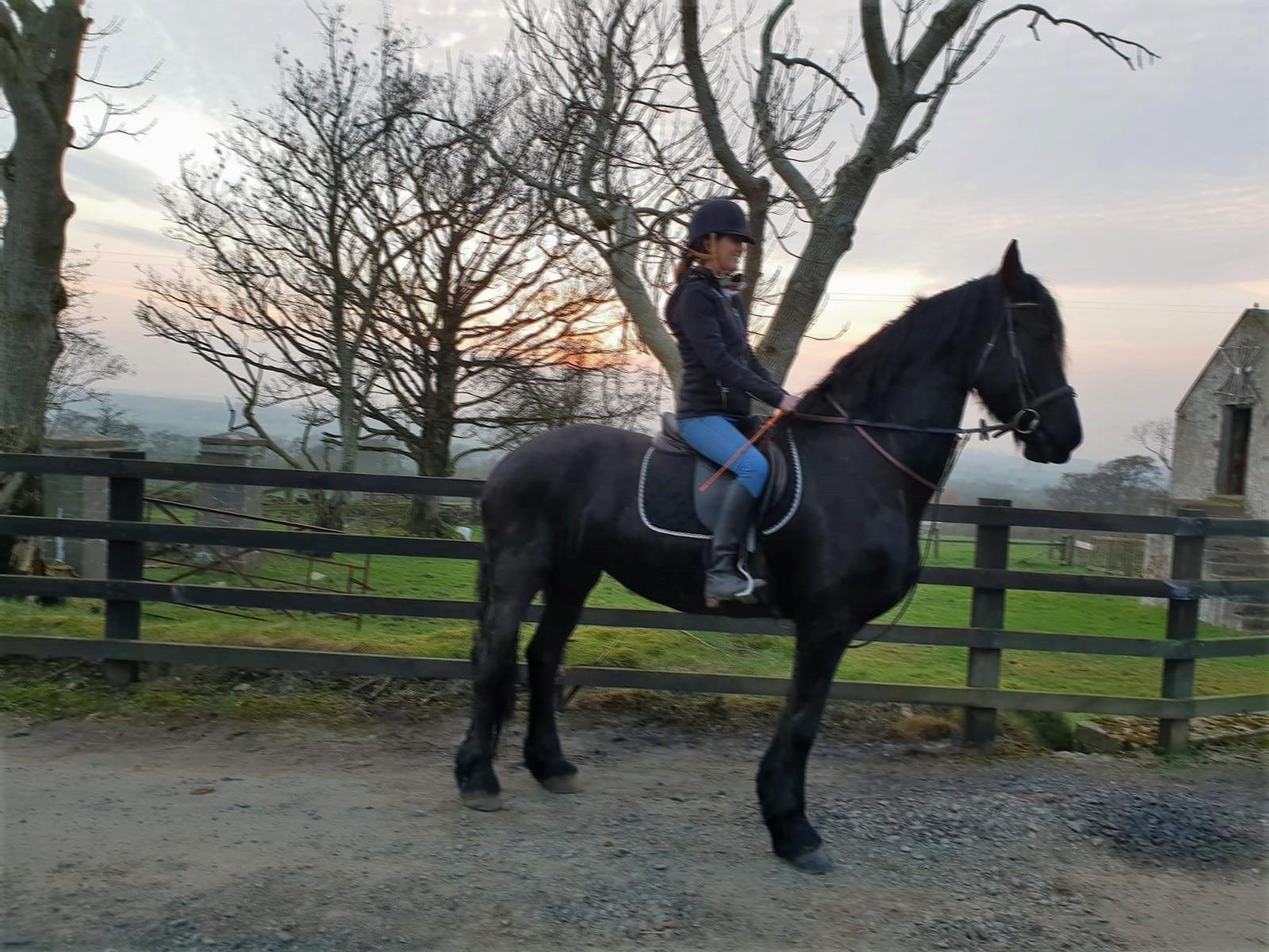horse: (431, 234, 1102, 883)
